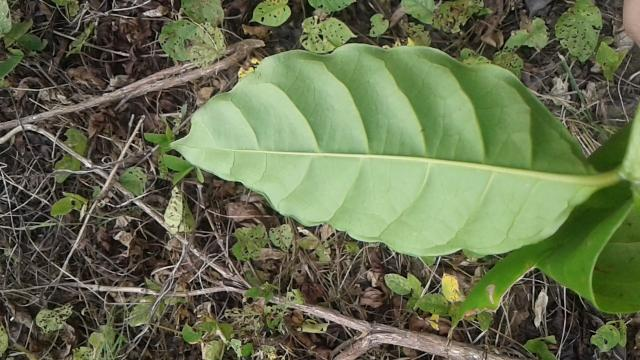healthy: (169, 42, 610, 258)
